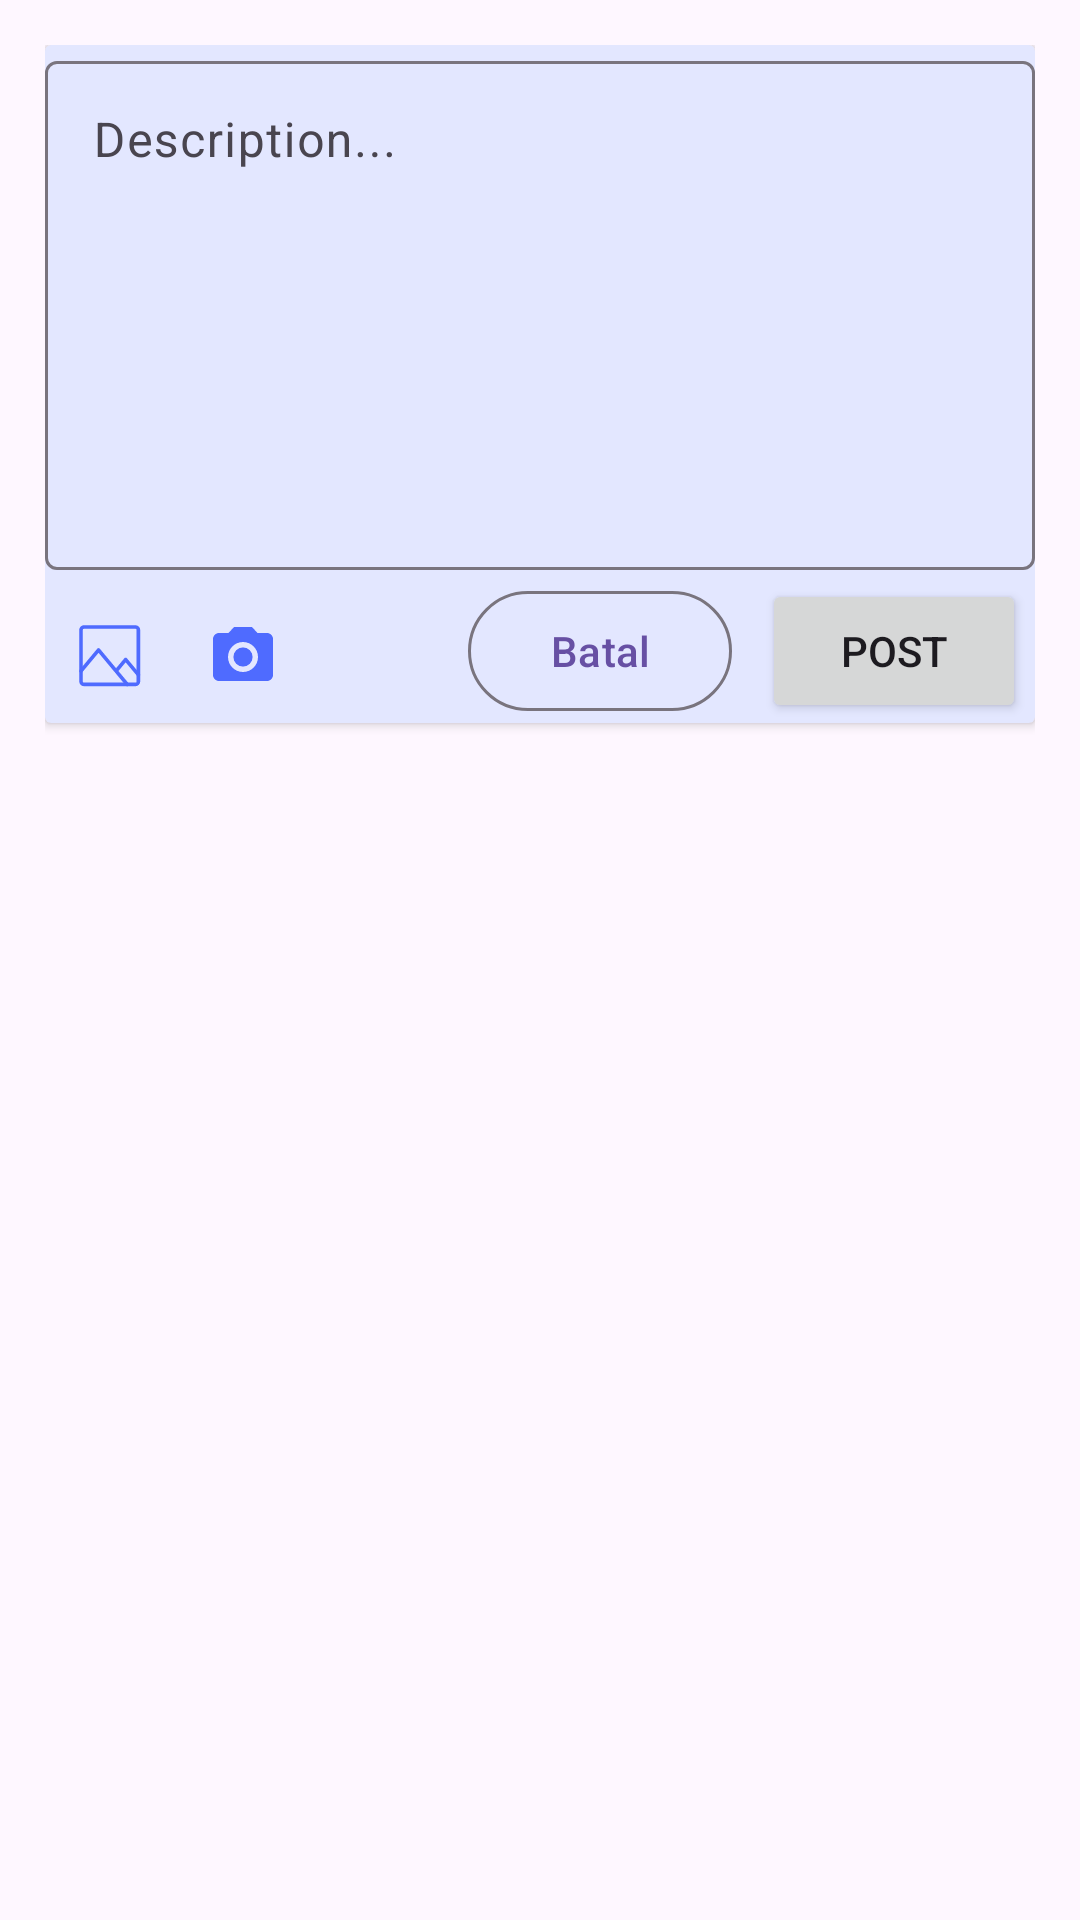

Icon bounding boxes for this 1080px x 1920px phone screenshot, format [x1, y1, x2, y2]:
Get Image From Camera: [213, 627, 273, 681]
Get Image From Gallery: [79, 625, 141, 687]
